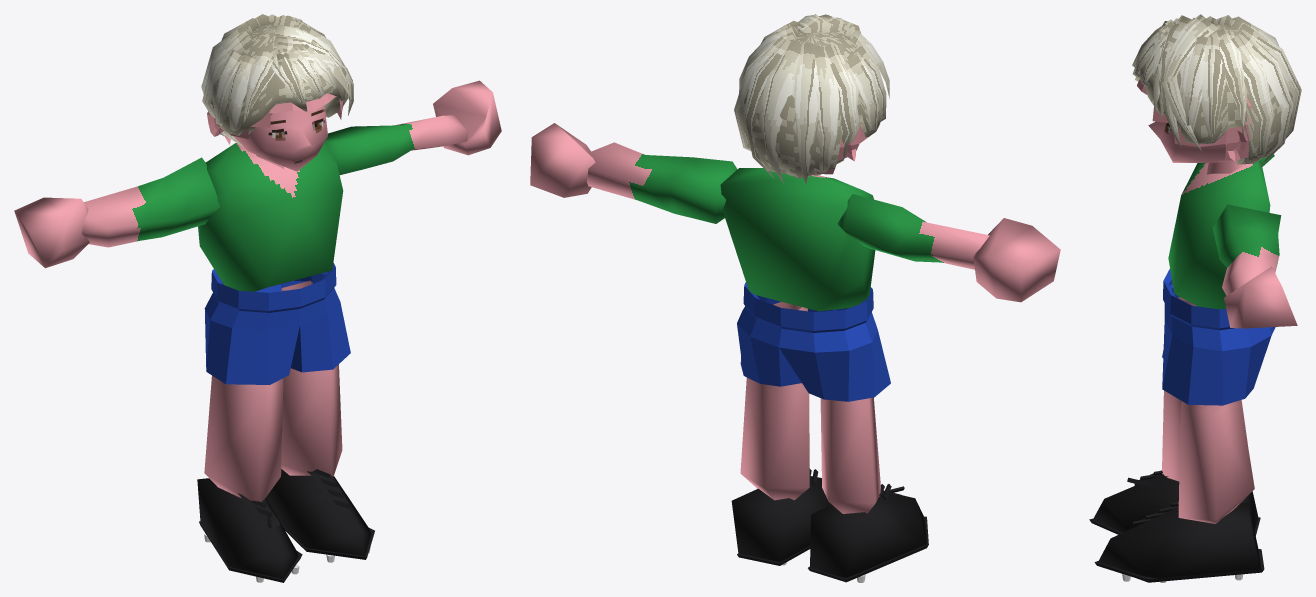
File: 01-liso-repartido_loiro-pintado.glb
3 renders of one model, left to right at view 1: azimuth 30°, elevation 25°; view 2: azimuth 150°, elevation 25°; view 3: azimuth 270°, elevation 25°, orthographic. The views are drawn at different scales.
Visible parts, largest first — view 1: Camisa_Tronco, Bermuda, Cabelo, Perna.R, Braco.R, Perna.L, Chuteira.R, Chuteira.L, Braco.L, Mao.R, Cabeca, Mao.L (+2 smaller); view 2: Cabelo, Camisa_Tronco, Bermuda, Perna.L, Braco.L, Chuteira.R, Perna.R, Braco.R, Mao.R, Chuteira.L, Mao.L, Chuteira_Sola.R; view 3: Cabelo, Bermuda, Chuteira.L, Camisa_Tronco, Perna.L, Braco.L, Mao.L, Chuteira.R, Perna.R, Cabeca, Couro_Cabeludo, Chuteira_Sola.L (+3 smaller).
Part boxes in pixels (x1,y1,x2,y2): Camisa_Tronco: (198,142,343,291); Bermuda: (204,262,350,384); Cabelo: (201,14,353,146); Perna.R: (204,375,283,505); Braco.R: (81,157,219,247); Perna.L: (281,280,342,477); Chuteira.R: (197,478,300,578); Chuteira.L: (266,469,370,556); Braco.L: (324,115,468,174); Mao.R: (14,197,89,268); Cabeca: (233,104,327,171); Mao.L: (433,80,501,155); Cabelo: (734,14,889,184); Camisa_Tronco: (720,168,875,311); Bermuda: (737,282,890,401); Perna.L: (740,301,809,500); Braco.L: (586,142,737,223); Chuteira.R: (810,491,926,578); Perna.R: (820,397,880,513); Braco.R: (837,194,989,269); Mao.R: (973,218,1060,302); Chuteira.L: (731,476,831,562); Mao.L: (530,123,595,197); Chuteira_Sola.R: (808,516,928,582); Cabelo: (1132,14,1301,167); Bermuda: (1162,269,1275,405); Chuteira.L: (1098,502,1261,582); Camisa_Tronco: (1168,159,1270,309); Perna.L: (1178,400,1254,523); Braco.L: (1213,204,1281,295); Mao.L: (1224,266,1297,328); Chuteira.R: (1093,474,1258,532); Perna.R: (1162,296,1247,481); Cabeca: (1148,121,1234,162); Couro_Cabeludo: (1137,79,1263,164); Chuteira_Sola.L: (1094,549,1264,582).
Size of the model in its own units: 0.4523 by 0.4617 by 0.1648.
3 materials, 3 textured.
